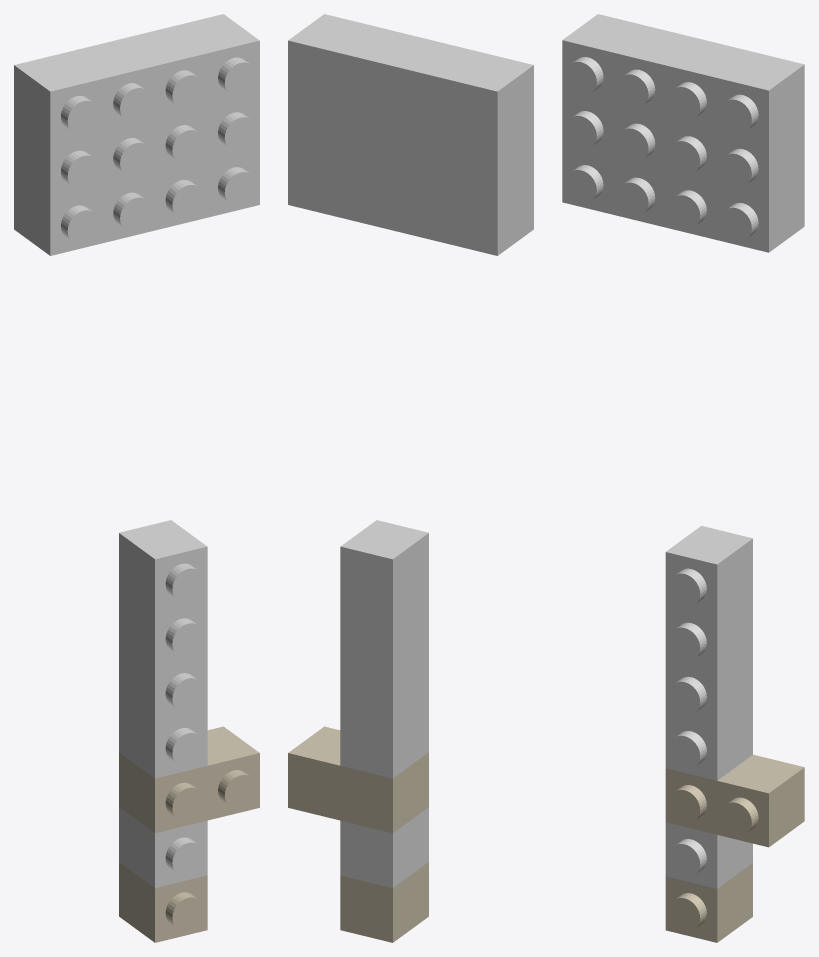
File: current.glb
3 views of the same model, side by side, from view 1: azimuth 30°, elevation 25°; view 2: azimuth 150°, elevation 25°; view 3: azimuth 330°, elevation 25° (orthographic).
Visible parts, largest first — view 1: world; view 2: world; view 3: world.
Part boxes in pixels (left/top/right/bottom): world: left=14, top=14, right=259, bottom=942; world: left=288, top=14, right=533, bottom=942; world: left=562, top=14, right=804, bottom=942.
Size of the model in its own units: 32 by 128 by 11.4.
